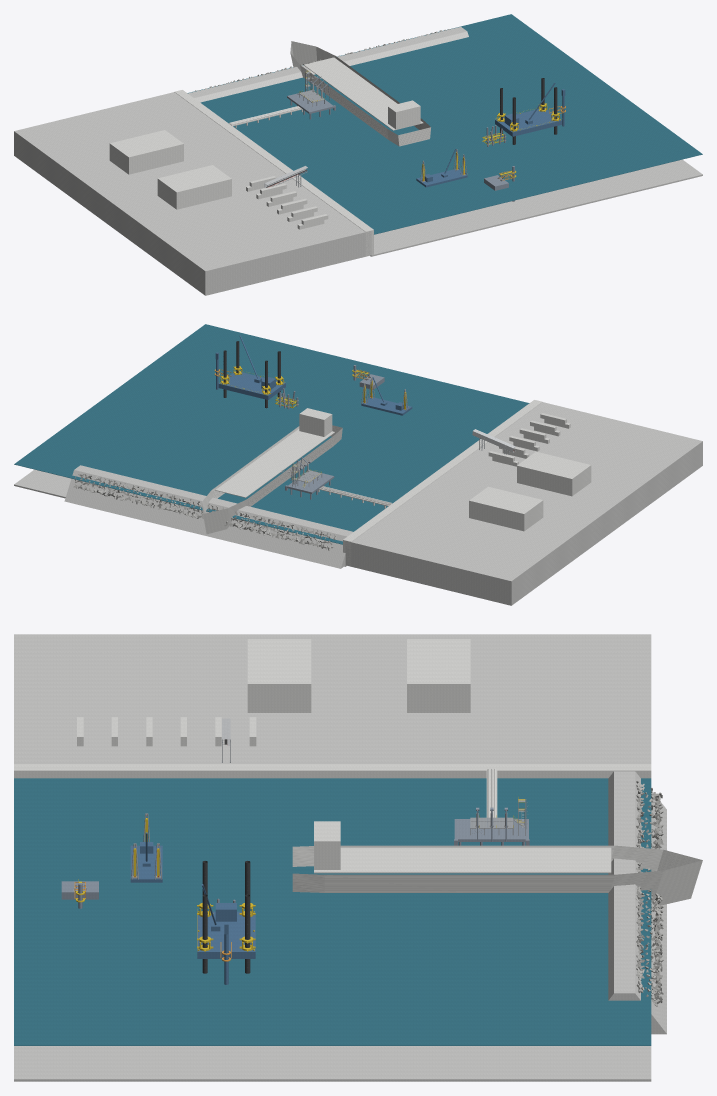
Rendered from plant-ports.glb.
3 renders of one model, top to bottom at view 1: azimuth 30°, elevation 25°; view 2: azimuth 150°, elevation 25°; view 3: azimuth 270°, elevation 25°, orthographic. The views are drawn at different scales.
Visible parts, largest first — view 1: ENV_Sea, ENV_Land, ENV_SeaBed, ENV_Breakwater, ENV_Tanker, ENV_PortShed, ENV_PortShed.001, ENV_TankerDeck, ENV_Quay, HullCrane&Pile(context), ENV_TankerBridge, Jetty&LoadingArms(context) (+2 smaller); view 2: ENV_Sea, ENV_Land, ENV_Breakwater, ENV_TankerDeck, ENV_PortShed, ENV_PortShed.001, ENV_Tanker, ENV_Quay, HullCrane&Pile(context), ENV_SeaBed, ENV_TankerBridge, Jetty&LoadingArms(context) (+2 smaller); view 3: ENV_Sea, ENV_Land, ENV_SeaBed, ENV_Tanker, ENV_Quay, ENV_Breakwater, ENV_TankerDeck, ENV_PortShed.001, ENV_PortShed, HullCrane&Pile(context), Jetty&LoadingArms(context), ENV_TankerBridge (+3 smaller).
Boxes of the visible parts, box(x1,y1,x2,y2) form: ENV_Sea: box(187, 14, 702, 234); ENV_Land: box(14, 92, 371, 295); ENV_SeaBed: box(370, 159, 702, 256); ENV_Breakwater: box(188, 27, 468, 102); ENV_Tanker: box(290, 41, 430, 146); ENV_PortShed: box(109, 130, 183, 174); ENV_PortShed.001: box(157, 165, 231, 209); ENV_TankerDeck: box(304, 57, 423, 130); ENV_Quay: box(174, 90, 373, 256); HullCrane&Pile(context): box(495, 83, 565, 136); ENV_TankerBridge: box(388, 100, 420, 129); Jetty&LoadingArms(context): box(287, 77, 335, 119); ENV_Sea: box(14, 324, 529, 544); ENV_Land: box(345, 402, 702, 605); ENV_Breakwater: box(64, 465, 352, 568); ENV_TankerDeck: box(215, 429, 334, 497); ENV_PortShed: box(469, 486, 543, 531); ENV_PortShed.001: box(517, 451, 591, 496); ENV_Tanker: box(202, 425, 342, 534); ENV_Quay: box(343, 400, 542, 566); HullCrane&Pile(context): box(215, 335, 285, 399); ENV_SeaBed: box(14, 469, 346, 566); ENV_TankerBridge: box(299, 408, 332, 436); Jetty&LoadingArms(context): box(285, 457, 334, 499); ENV_Sea: box(14, 778, 651, 1045); ENV_Land: box(14, 634, 651, 763); ENV_SeaBed: box(14, 1046, 651, 1081); ENV_Tanker: box(292, 845, 702, 905); ENV_Quay: box(14, 764, 651, 778); ENV_Breakwater: box(608, 771, 666, 1034); ENV_TankerDeck: box(314, 847, 611, 873); ENV_PortShed.001: box(247, 639, 311, 712); ENV_PortShed: box(407, 639, 470, 712); HullCrane&Pile(context): box(197, 884, 255, 984); Jetty&LoadingArms(context): box(454, 807, 529, 845); ENV_TankerBridge: box(314, 821, 340, 869).
Size of the model in its own units: 360 by 52.23 by 260.
36 materials, 35 textured.
